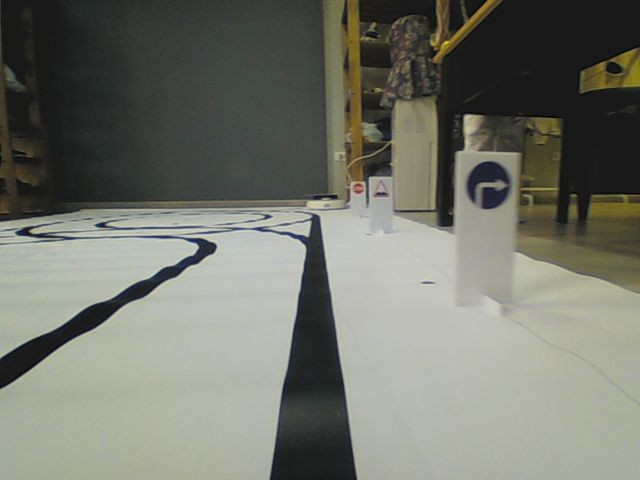Nerov: (373, 179, 389, 198)
Right: (466, 159, 511, 210)
